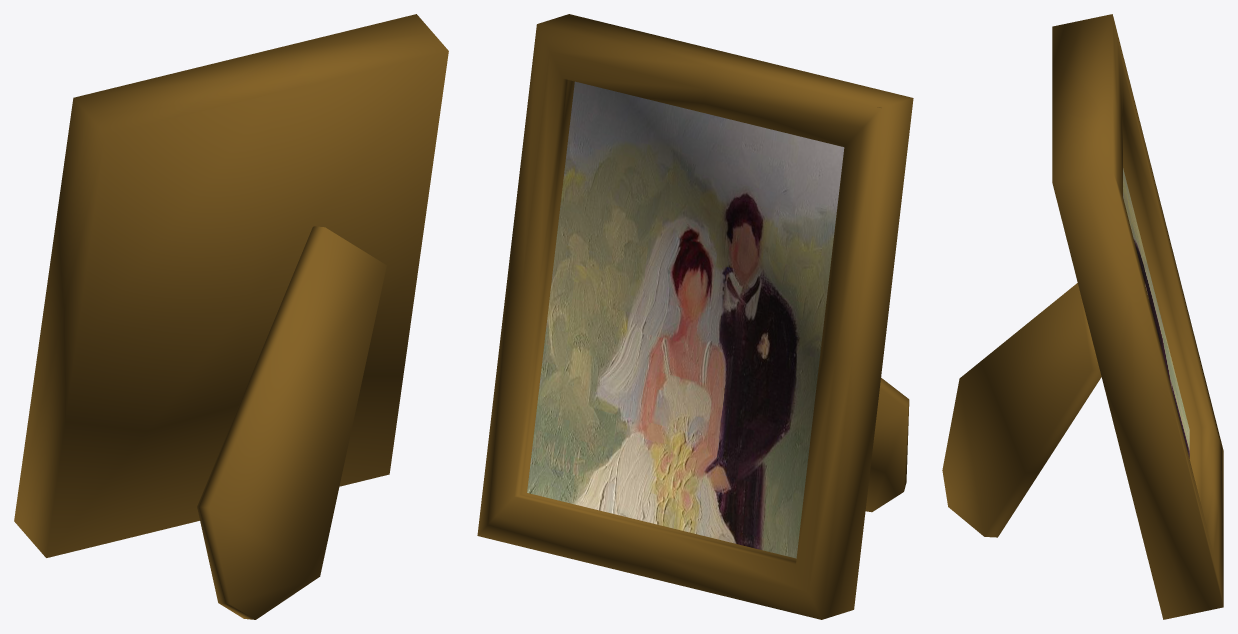
Rendered from pictureFrame.fbx.
The picture shows the model from 3 angles, left to right: view 1: azimuth 30°, elevation 25°; view 2: azimuth 150°, elevation 25°; view 3: azimuth 270°, elevation 25°; orthographic projection. The views are drawn at different scales.
Parts seen in each view (by area): view 1: Cube_001; view 2: Cube_001; view 3: Cube_001.
Boxes of the visible parts, <box> form: Cube_001: <box>14,14,448,619</box>; Cube_001: <box>477,14,913,619</box>; Cube_001: <box>942,14,1223,619</box>.
Size of the model in its own units: 0.5487 by 0.739 by 0.4161.
